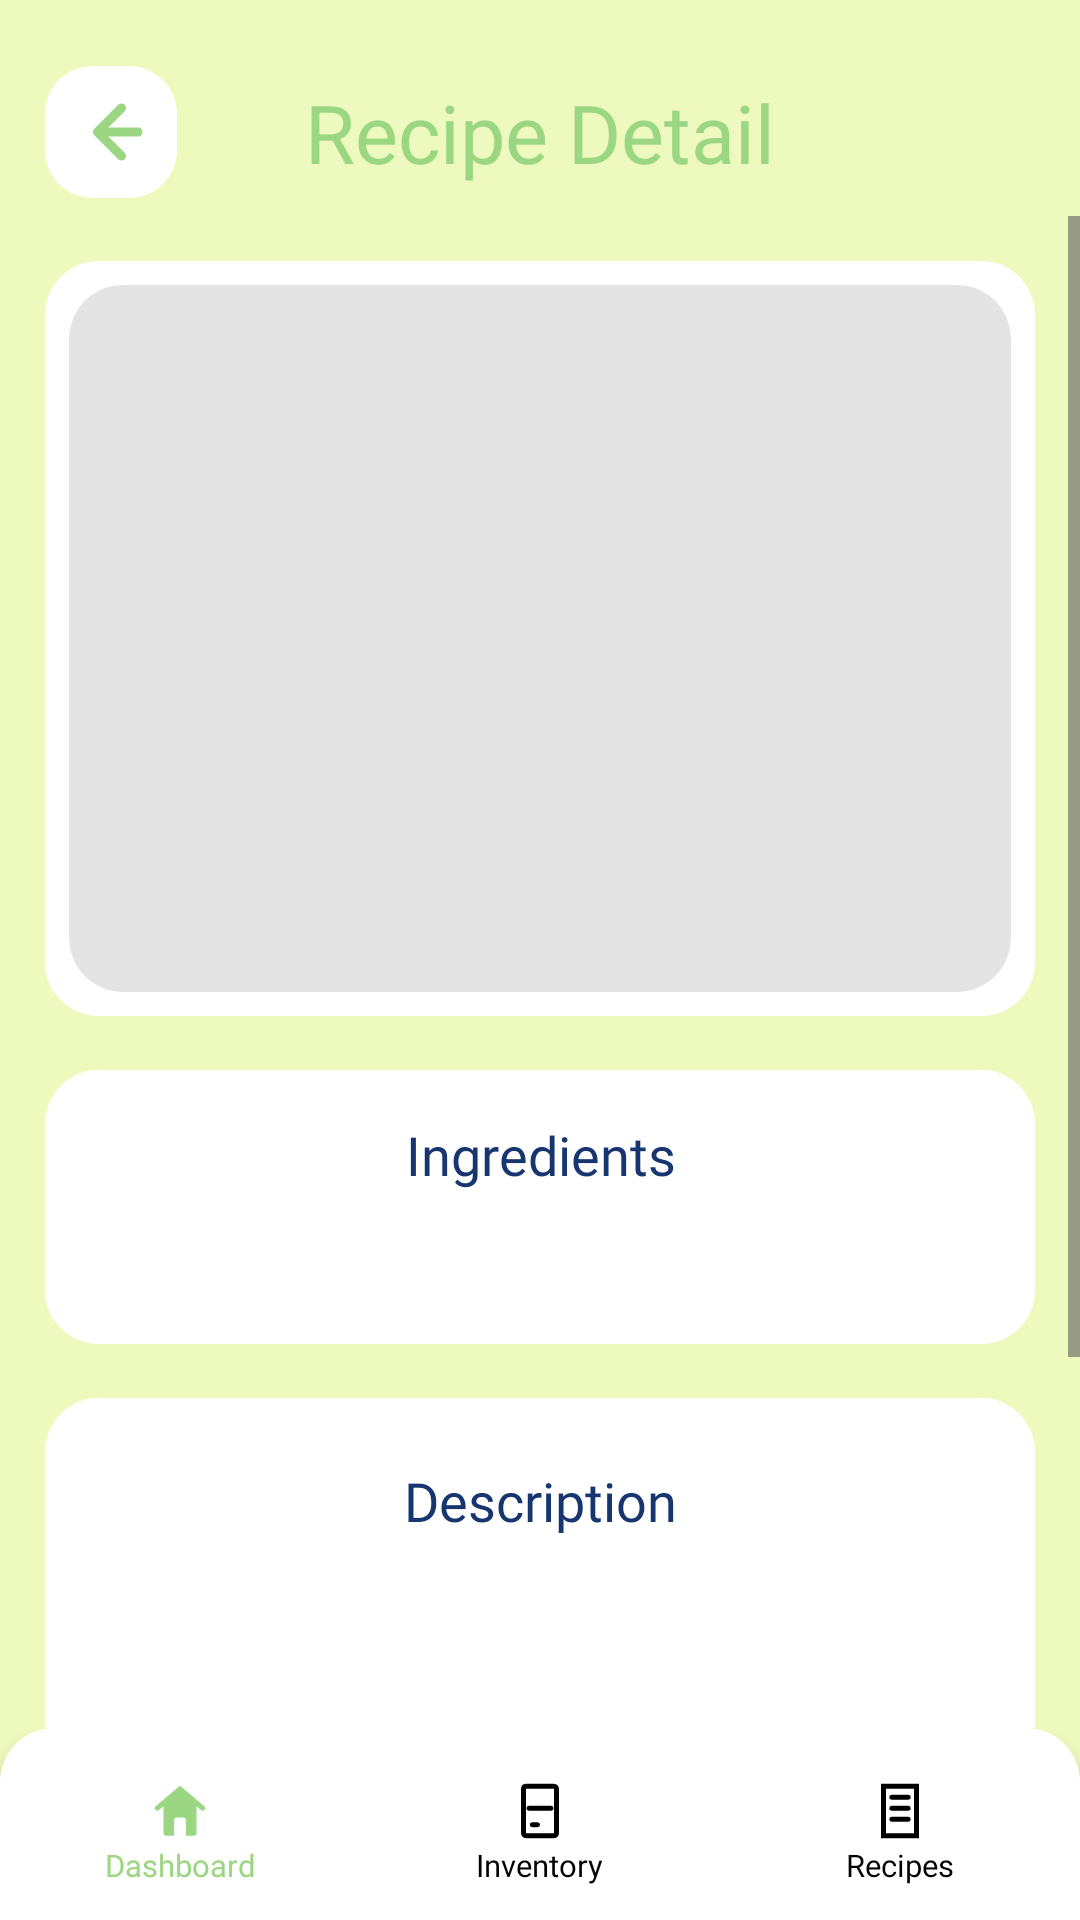

Where to tap for icons on this 1080 × 1920 app screen, as (x=x, y=y):
Back: (x=111, y=132)
home: (x=180, y=1811)
